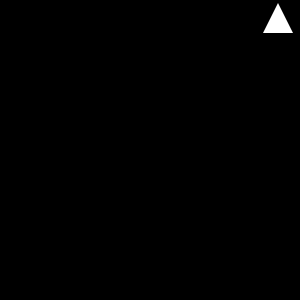triangle: (263, 3, 293, 33)
